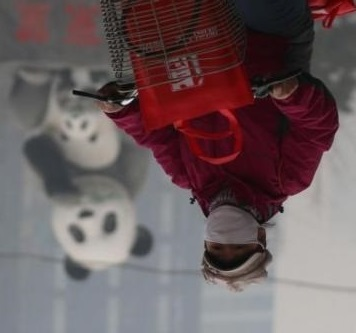person: (131, 69, 341, 292)
